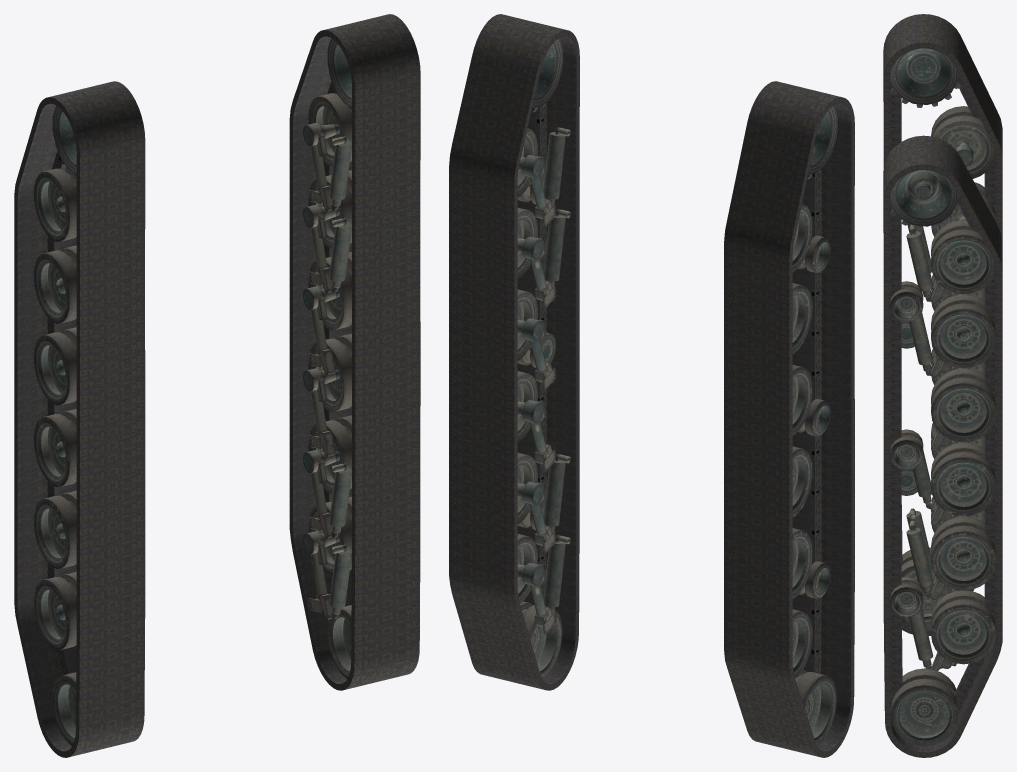
Rendered from Chassis.glb.
3 views of the same model, side by side, from view 1: azimuth 30°, elevation 25°; view 2: azimuth 150°, elevation 25°; view 3: azimuth 270°, elevation 25° (orthographic). The views are drawn at different scales.
Parts seen in each view (by area): view 1: set_0_group_0, set_1_group_0, set_3_group_0, set_2_group_0; view 2: set_0_group_0, set_1_group_0, set_3_group_0, set_2_group_0; view 3: set_3_group_0, set_1_group_0, set_2_group_0, set_0_group_0.
Part boxes in pixels (x1,y1,x2,y2): set_0_group_0: (14,81,145,757); set_1_group_0: (289,14,420,690); set_3_group_0: (303,38,351,678); set_2_group_0: (33,105,76,745); set_0_group_0: (724,81,854,757); set_1_group_0: (449,14,579,690); set_3_group_0: (517,38,570,678); set_2_group_0: (792,105,837,745); set_3_group_0: (889,170,996,746); set_1_group_0: (883,135,1002,757); set_2_group_0: (889,48,996,624); set_0_group_0: (883,14,1002,635).
Bounding box in the file's own units: 3.16 × 5.81 × 1.06.
4 materials, 4 textured.
